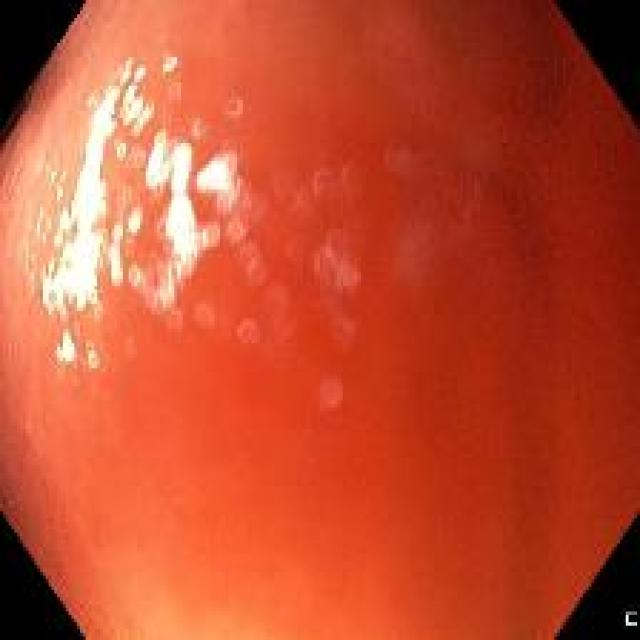color misalignment: (1, 2, 638, 639), (277, 159, 366, 207), (312, 228, 363, 293), (221, 176, 267, 240), (234, 238, 277, 284), (222, 95, 256, 132), (138, 264, 162, 315), (319, 374, 347, 415), (235, 315, 262, 351), (200, 218, 222, 254), (163, 306, 189, 334), (194, 299, 222, 323), (115, 183, 130, 214), (120, 337, 136, 356), (166, 80, 184, 95)
specularity: (43, 80, 128, 318), (170, 138, 199, 275), (45, 325, 109, 376), (115, 55, 151, 134), (196, 148, 236, 205), (142, 267, 176, 313), (148, 133, 168, 196), (199, 220, 222, 255), (159, 53, 182, 75), (130, 207, 141, 236)
